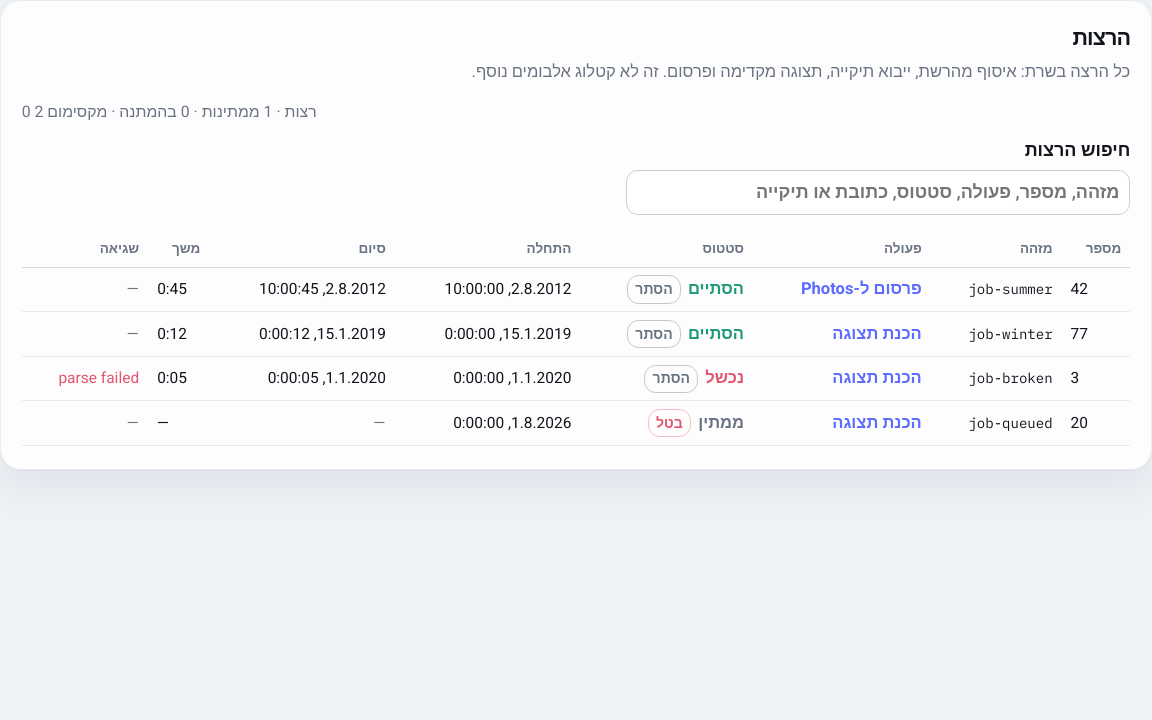
Test: JobList › keeps the simple cancel copy on the list when cancel-preview has no children
The width and height of the screenshot is (1152, 720).
Click the button "בטל" at (669, 423), box x1=648 y1=409 x2=691 y2=437
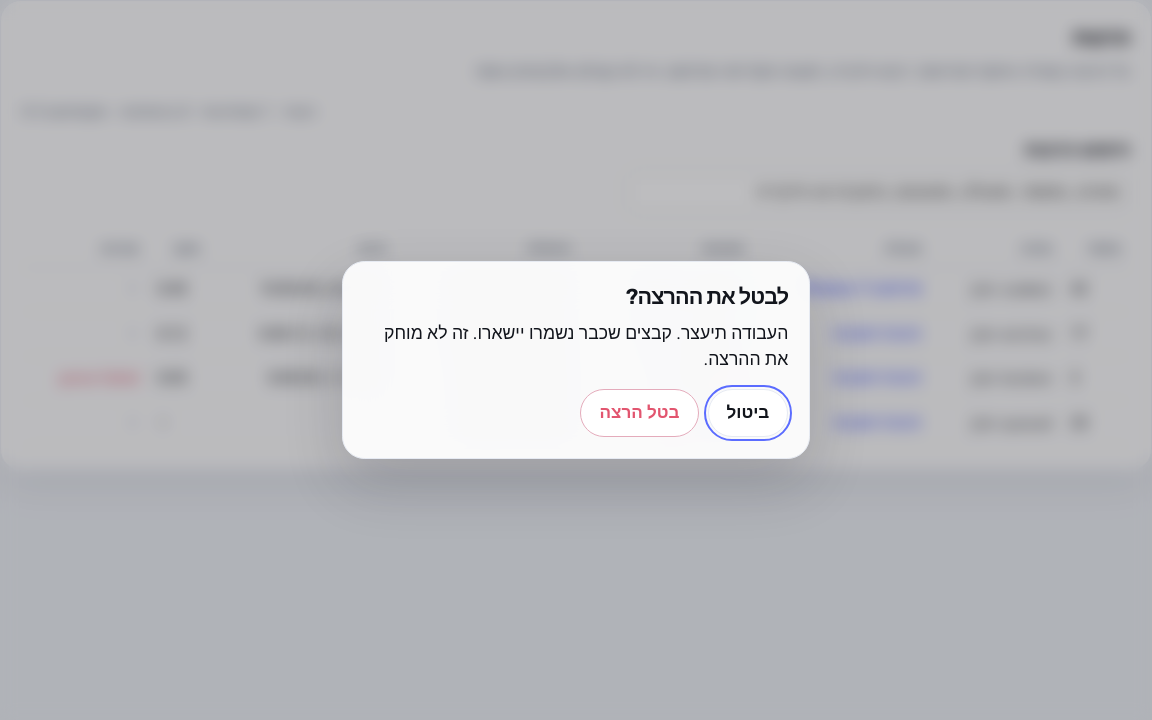
Expected: the text "העבודה תיעצר. קבצים שכבר נשמרו יישארו. זה לא מוחק את ההרצה." is shown, x1=364 y1=321 x2=788 y2=372
